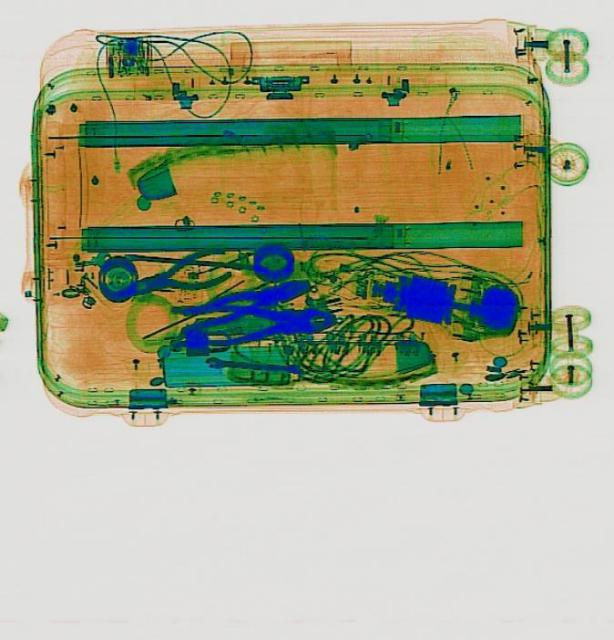Pliers: (167, 294, 335, 348), (175, 272, 313, 332), (117, 244, 232, 308)
